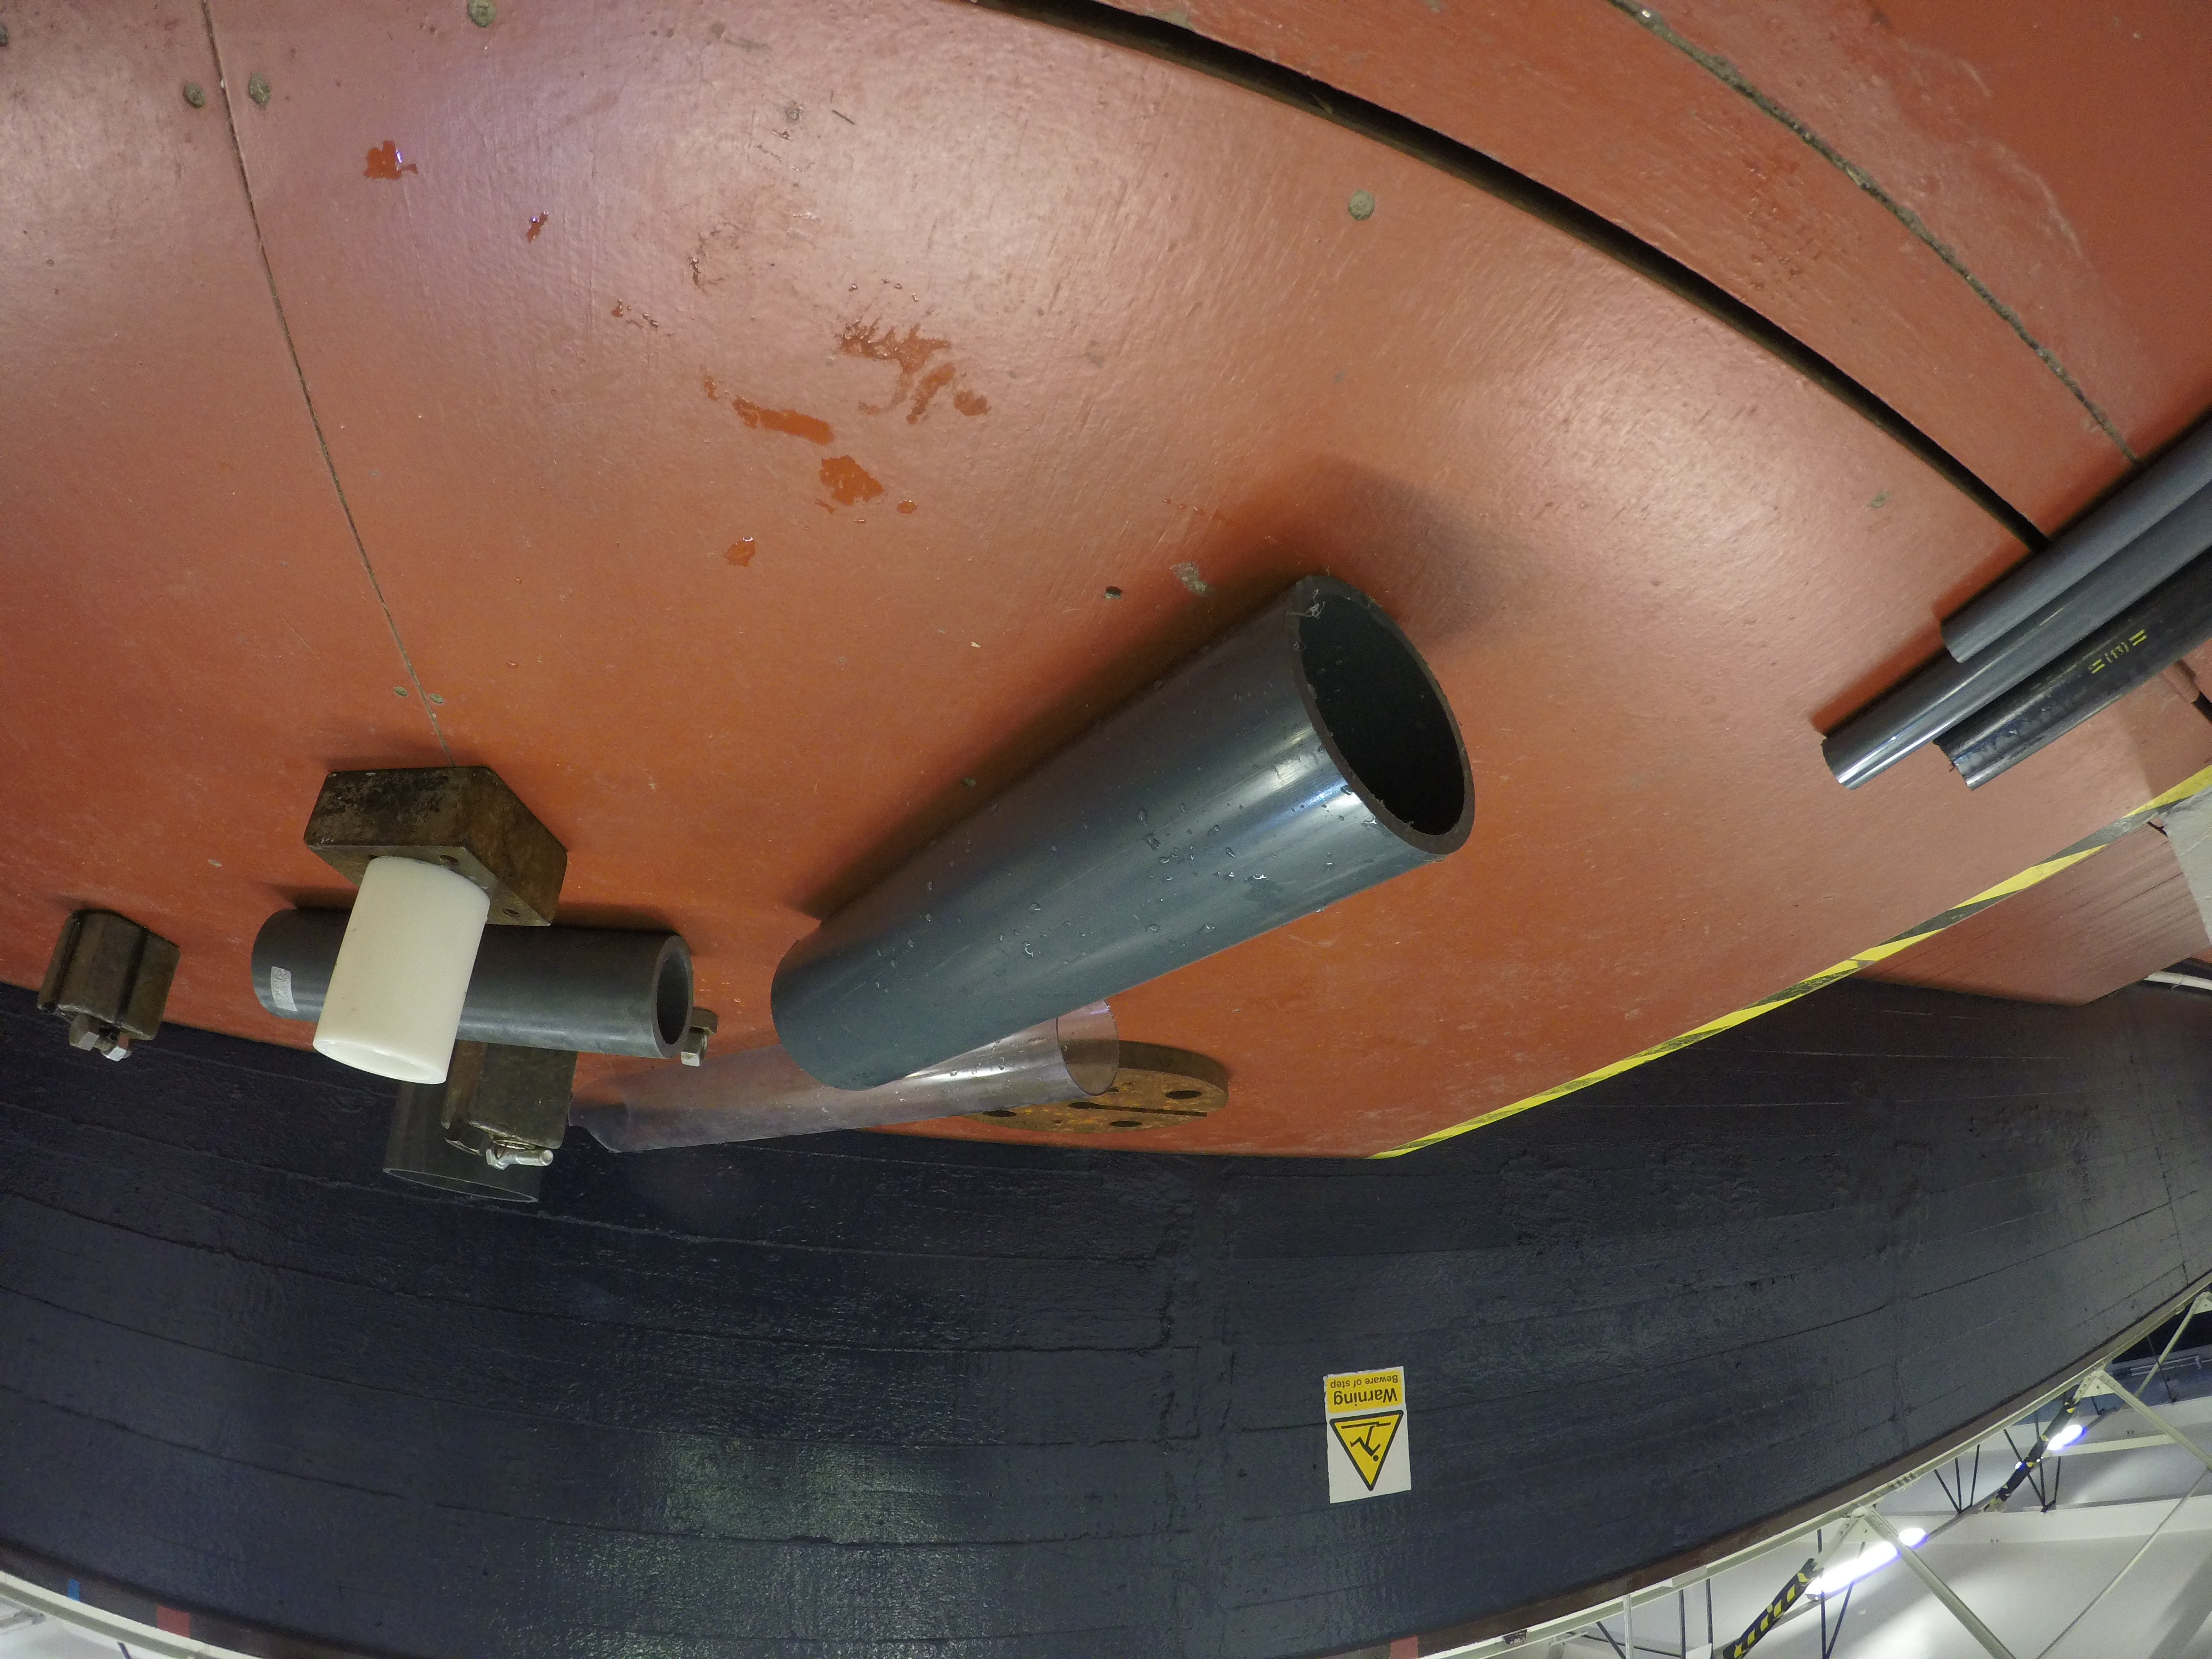bolt: (68, 1014, 132, 1060)
led_block: (305, 765, 570, 929), (37, 911, 181, 1040)
nut: (101, 1032, 127, 1061)
pipe: (770, 570, 1479, 1093), (568, 999, 1125, 1161), (251, 904, 690, 1060), (314, 856, 488, 1086)
